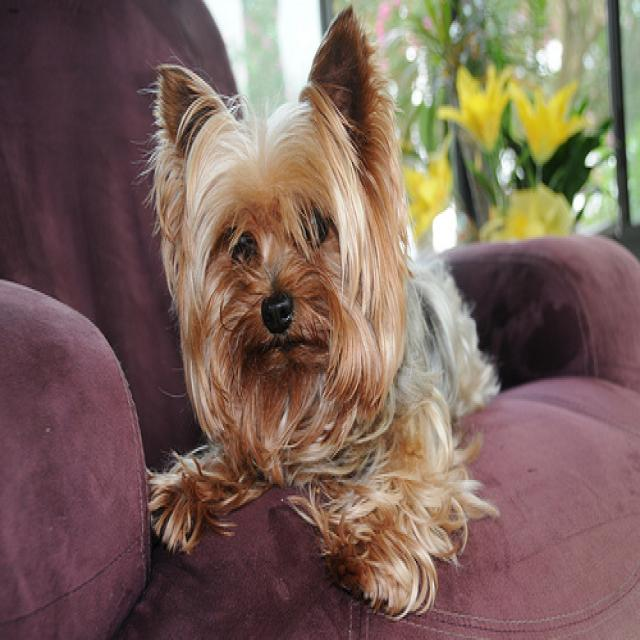dog-yorkshire_terrier: (132, 2, 509, 623)
